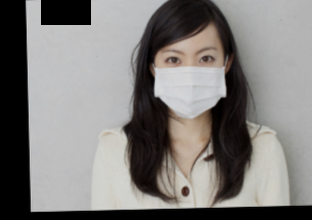with_mask: (154, 46, 226, 118)
